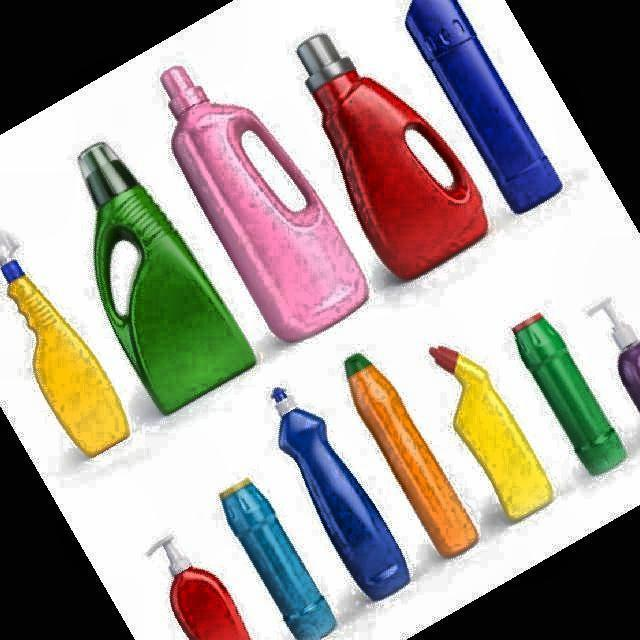plastic: (161, 66, 368, 341), (78, 142, 255, 413), (298, 35, 488, 279), (408, 0, 560, 211), (272, 388, 409, 599), (0, 235, 129, 456), (345, 354, 478, 557), (430, 348, 551, 521), (512, 314, 626, 475), (221, 480, 335, 640), (148, 536, 250, 640), (589, 299, 640, 408)
